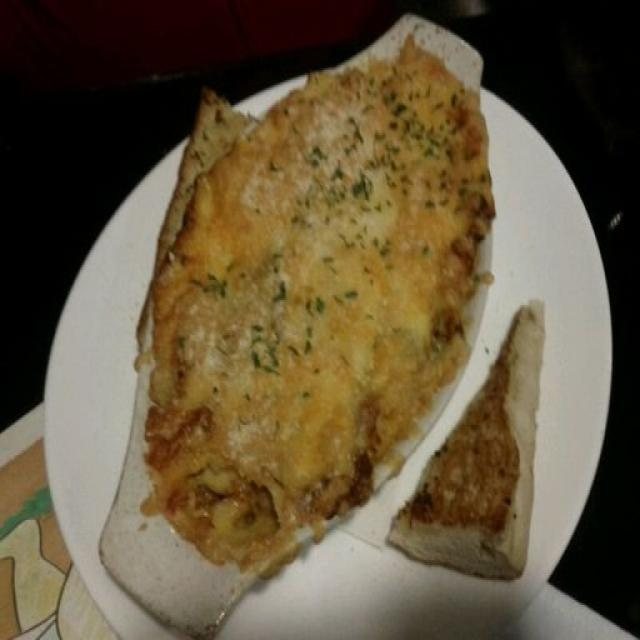Lasagna: (132, 65, 450, 540)
